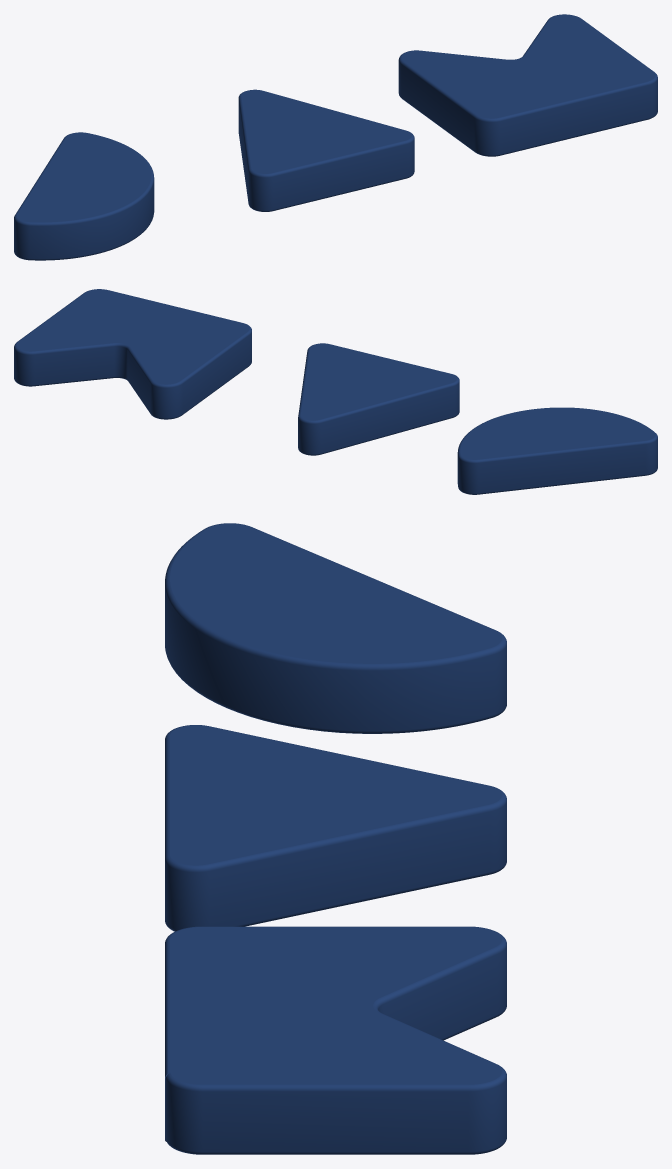
The model's file is jam.glb.
The picture shows the model from 3 angles, top to bottom: view 1: azimuth 30°, elevation 25°; view 2: azimuth 150°, elevation 25°; view 3: azimuth 270°, elevation 25°; orthographic projection. The views are drawn at different scales.
Parts seen in each view (by area): view 1: Filejam_Emblem_Part_Right, Filejam_Emblem_Part_Center, Filejam_Emblem_Part_Left; view 2: Filejam_Emblem_Part_Right, Filejam_Emblem_Part_Left, Filejam_Emblem_Part_Center; view 3: Filejam_Emblem_Part_Right, Filejam_Emblem_Part_Center, Filejam_Emblem_Part_Left.
Part boxes in pixels (bbox=[...]): Filejam_Emblem_Part_Right: bbox=[398, 14, 657, 156]; Filejam_Emblem_Part_Center: bbox=[238, 89, 414, 211]; Filejam_Emblem_Part_Left: bbox=[14, 132, 154, 260]; Filejam_Emblem_Part_Right: bbox=[14, 289, 251, 419]; Filejam_Emblem_Part_Left: bbox=[457, 407, 657, 494]; Filejam_Emblem_Part_Center: bbox=[298, 343, 459, 455]; Filejam_Emblem_Part_Right: bbox=[165, 926, 506, 1154]; Filejam_Emblem_Part_Center: bbox=[165, 725, 506, 931]; Filejam_Emblem_Part_Left: bbox=[165, 523, 506, 733].
Size of the model in its own units: 6.45 by 0.37 by 1.65.
